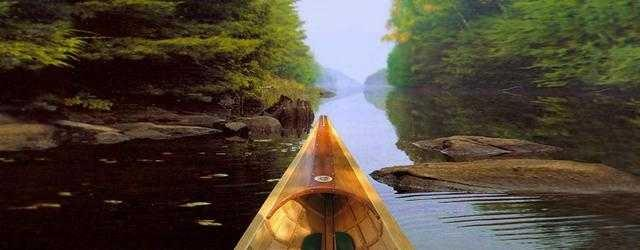kayak: (234, 115, 415, 249)
